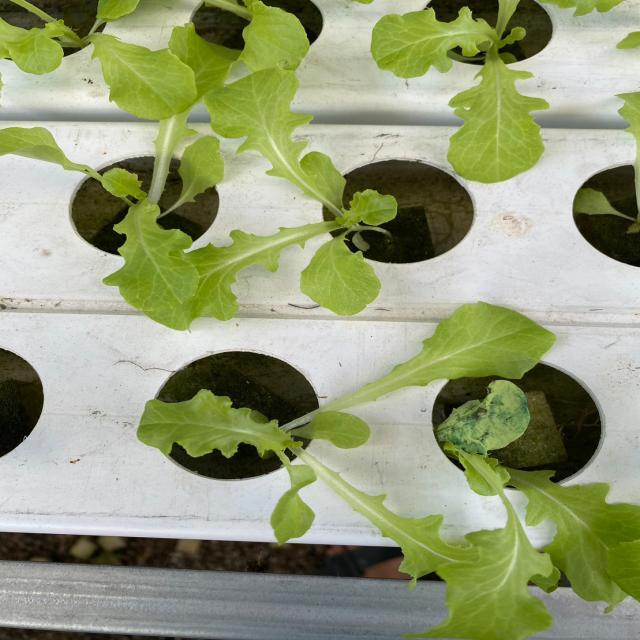Lettuce-Not-Ready-to-Harvest: (138, 302, 555, 577), (189, 1, 398, 318), (1, 115, 200, 329), (425, 442, 640, 640), (371, 1, 548, 182), (0, 0, 196, 119), (170, 136, 222, 209)
